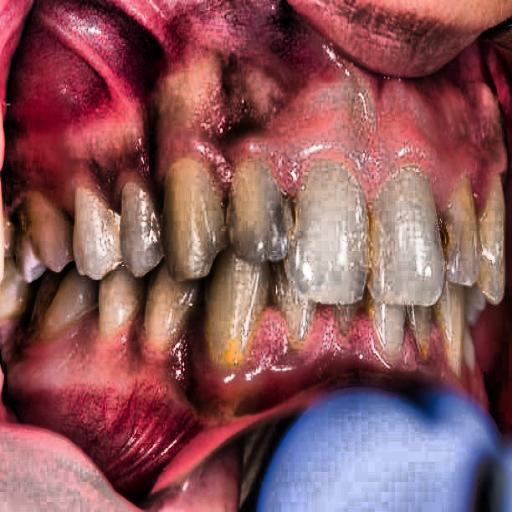Gingivitis: (49, 38, 367, 173)
